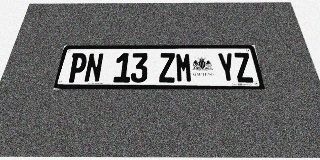1: (113, 53, 132, 83)
3: (130, 53, 148, 83)
M: (175, 53, 193, 83)
N: (83, 53, 104, 83)
P: (66, 53, 88, 83)
Y: (216, 53, 237, 82)
Z: (233, 53, 255, 82), (159, 53, 176, 83)
